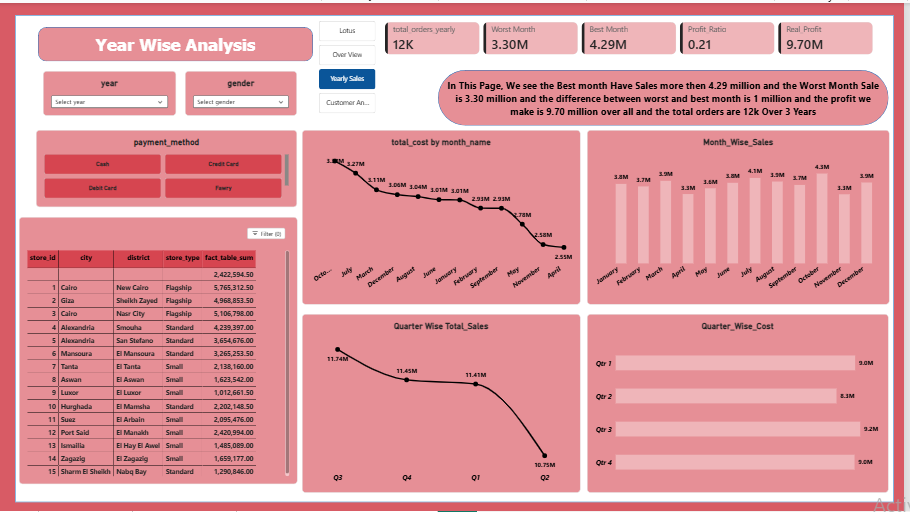

What the dashboard file says about the page in this screenshot:
{"tool":"powerbi","page":{"name":"Yearly Sales","canvas":[1920,1080],"ordinal":2},"visuals":[{"type":"shape","box":[80,51.3,584.6,73.1],"z":0,"group":"g1"},{"type":"columnChart","title":"Month_Wise_Sales","fields":{"Category":["dim_date.full_date.Variation.Date Hierarchy.Month"],"Y":["Customer_date.fact_table_sum"]},"box":[1247.5,270.8,643,370.6],"z":1000,"group":"g1"},{"type":"cardVisual","fields":{"Data":["Customer_date.total_orders_yearly","Customer_date.Worst Month","Customer_date.Best Month","Customer_date.Profit_Ratio","Customer_date.Real_Profit"]},"box":[819.1,40.4,1040.4,69.2],"z":2000,"group":"g1"},{"type":"tableEx","fields":{"Values":["dim_stores.store_id","dim_stores.city","dim_stores.district","dim_stores.store_type","Customer_date.fact_table_sum"]},"box":[40.4,455.3,591.6,567.8],"z":3000,"group":"g1"},{"type":"clusteredBarChart","title":"Quarter_Wise_Cost","fields":{"Category":["dim_date.full_date.Variation.Date Hierarchy.Quarter"],"Y":["Customer_date.total_cost"]},"box":[1247.5,661.5,640.7,379.5],"z":4000,"group":"g1"},{"type":"lineChart","fields":{"Category":["dim_date.month_name"],"Y":["Customer_date.total_cost"]},"box":[642.4,270.8,591.6,370.6],"z":5000,"group":"g1"},{"type":"areaChart","title":"Quarter Wise Total_Sales","fields":{"Category":["dim_date.quarter_name"],"Y":["Customer_date.fact_table_sum"]},"box":[642.4,661.5,591.6,379.5],"z":6000,"group":"g1"},{"type":"listSlicer","fields":{"Values":["dim_date.year"]},"box":[90.6,143.7,282.6,95.1],"z":7000,"group":"g1"},{"type":"advancedSlicerVisual","fields":{"Values":["Fact_table_Yearly.payment_method"]},"box":[77.4,270.5,554.6,163.7],"z":8000,"group":"g1"},{"type":"shape","box":[930.4,143.5,957.8,118.3],"z":9000,"group":"g1"},{"type":"listSlicer","fields":{"Values":["dim_customers.gender"]},"box":[394.3,143.7,237.7,95.1],"z":10000,"group":"g1"},{"type":"shape","box":[31.3,24.6,1868.7,1035.9],"z":10500},{"type":"pageNavigator","box":[678.7,38,120.6,198.7],"z":11000},{"type":"group","id":"g1","title":"Group 1","box":[40.4,40.4,1849.6,1001.3],"z":13001}]}

Visuals, with their boxes in screenshot pixels (x1, y1, x2, y2), scaled from the page's 1920x1080 canvas onto the 910x512 screenshot:
shape: select_region(38, 24, 315, 59)
"Month_Wise_Sales" columnChart: select_region(591, 128, 896, 304)
cardVisual - Customer_date.total_orders_yearly x Customer_date.Worst Month: select_region(388, 19, 881, 52)
tableEx - dim_stores.store_id x dim_stores.city: select_region(19, 216, 300, 485)
"Quarter_Wise_Cost" clusteredBarChart: select_region(591, 314, 895, 494)
lineChart - dim_date.month_name x Customer_date.total_cost: select_region(304, 128, 585, 304)
"Quarter Wise Total_Sales" areaChart: select_region(304, 314, 585, 494)
listSlicer - dim_date.year: select_region(43, 68, 177, 113)
advancedSlicerVisual - Fact_table_Yearly.payment_method: select_region(37, 128, 300, 206)
shape: select_region(441, 68, 895, 124)
listSlicer - dim_customers.gender: select_region(187, 68, 300, 113)
shape: select_region(15, 12, 901, 503)
pageNavigator: select_region(322, 18, 379, 112)
"Group 1" group: select_region(19, 19, 896, 494)
